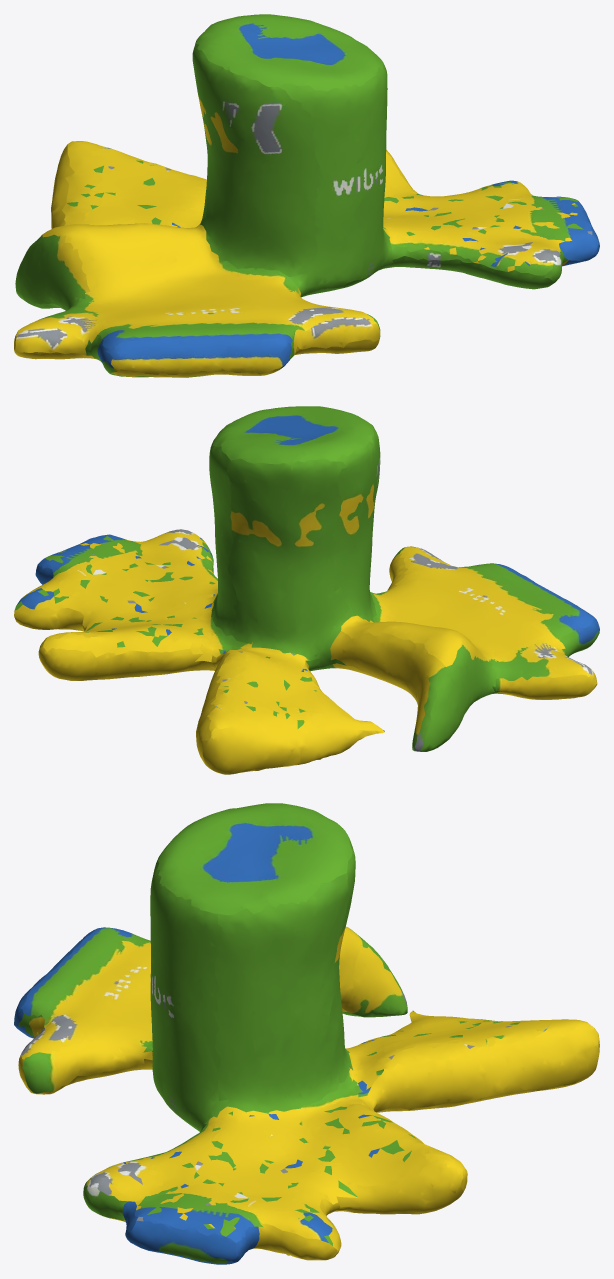
Rendered from swingaround.glb.
The picture shows the model from 3 angles, top to bottom: view 1: azimuth 30°, elevation 25°; view 2: azimuth 150°, elevation 25°; view 3: azimuth 270°, elevation 25°; orthographic projection. The views are drawn at different scales.
Visible parts, largest first — view 1: geometry_0; view 2: geometry_0; view 3: geometry_0.
Part boxes in pixels (x1,y1,x2,y2): geometry_0: [14, 14, 599, 377]; geometry_0: [14, 406, 599, 774]; geometry_0: [14, 803, 599, 1264].
Size of the model in its own units: 1.06 by 0.4402 by 0.833.
1 material, 1 textured.
